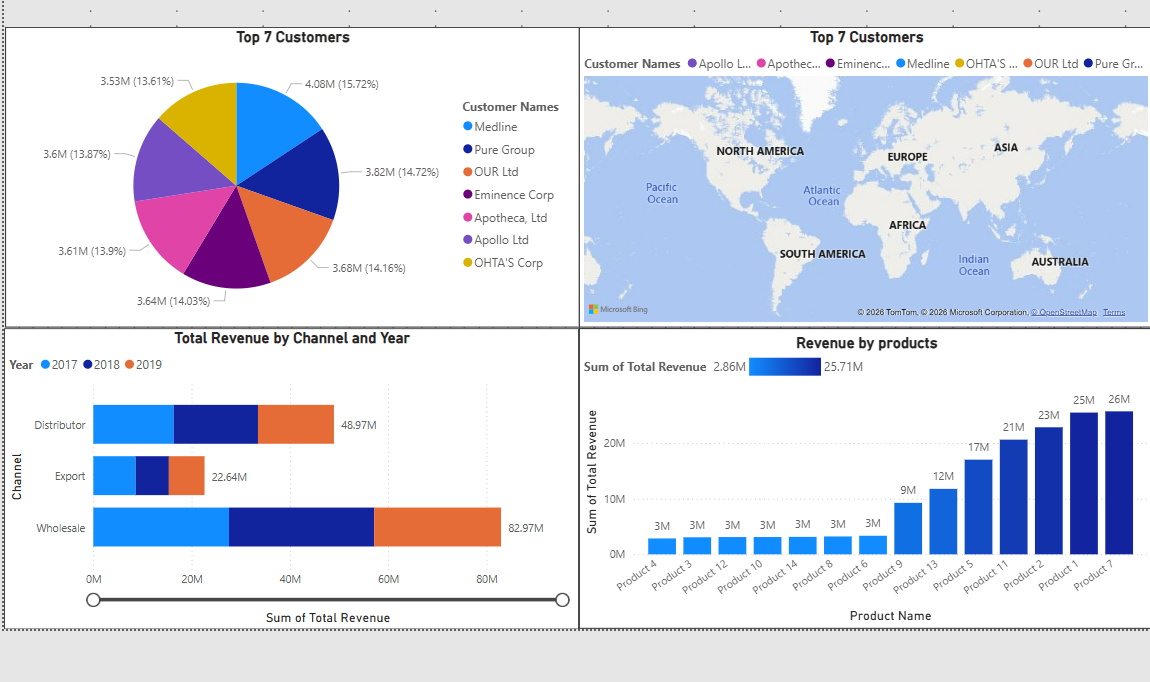

The dashboard page shown, as its layout file describes it:
{"tool":"powerbi","page":{"name":"Page 1","canvas":[1280,720],"ordinal":0},"visuals":[{"type":"barChart","title":" Total Revenue by Channel and Year","fields":{"Category":["Sales_Data.Channel","Sales_Data.OrderDate.Variation.Date Hierarchy.Year"],"Y":["Sum(Sales_Data.Total Revenue)"],"Series":["Sales_Data.OrderDate.Variation.Date Hierarchy.Year"]},"box":[0,385.4,640,335.3],"z":0},{"type":"columnChart","title":" Revenue by products","fields":{"Category":["Products_Data.Product Name"],"Y":["Sum(Sales_Data.Total Revenue)"]},"box":[640.6,385.5,639.1,334.8],"z":1000},{"type":"pieChart","title":"Top 7 Customers","fields":{"Category":["Customer_Data.Customer Names"],"Y":["Sum(Sales_Data.Total Revenue)"]},"box":[1.4,50.7,639.1,334.8],"z":2000},{"type":"map","title":"Top 7 Customers","fields":{"Series":["Customer_Data.Customer Names"],"Size":["Sum(Sales_Data.Total Revenue)"]},"box":[640.6,50.7,639.1,334.8],"z":3000}]}

Visuals, with their boxes in screenshot pixels (x1, y1, x2, y2):
" Total Revenue by Channel and Year" barChart: [left=9, top=327, right=576, bottom=624]
" Revenue by products" columnChart: [left=577, top=327, right=1143, bottom=623]
"Top 7 Customers" pieChart: [left=10, top=30, right=576, bottom=327]
"Top 7 Customers" map: [left=577, top=30, right=1143, bottom=327]
